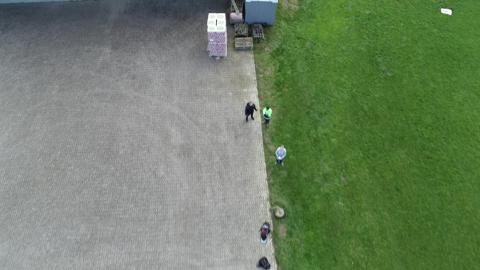RockwoolPallet: (206, 12, 229, 59)
